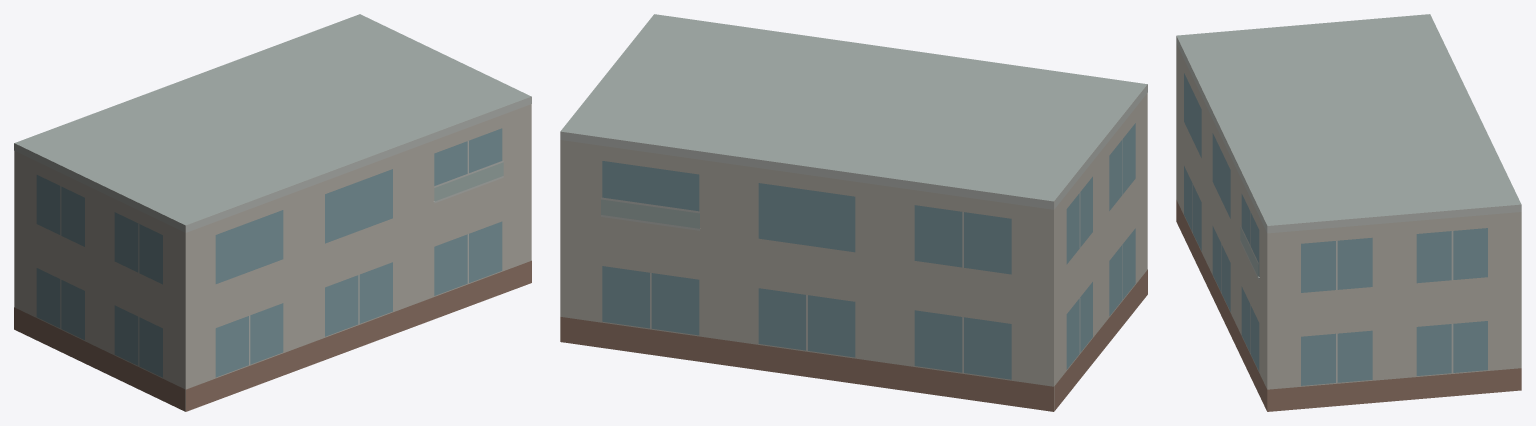
Rendered from survey-upis-32930003.glb.
3 renders of one model, left to right at view 1: azimuth 30°, elevation 25°; view 2: azimuth 150°, elevation 25°; view 3: azimuth 270°, elevation 25°, orthographic. The views are drawn at different scales.
Parts seen in each view (by area): view 1: survey-upis-32930003.tmp; view 2: survey-upis-32930003.tmp; view 3: survey-upis-32930003.tmp.
Part boxes in pixels (left/top/right/bottom): survey-upis-32930003.tmp: left=14, top=14, right=531, bottom=411; survey-upis-32930003.tmp: left=560, top=14, right=1147, bottom=411; survey-upis-32930003.tmp: left=1176, top=14, right=1521, bottom=411.
Size of the model in its own units: 14.94 by 6.1 by 10.28.
